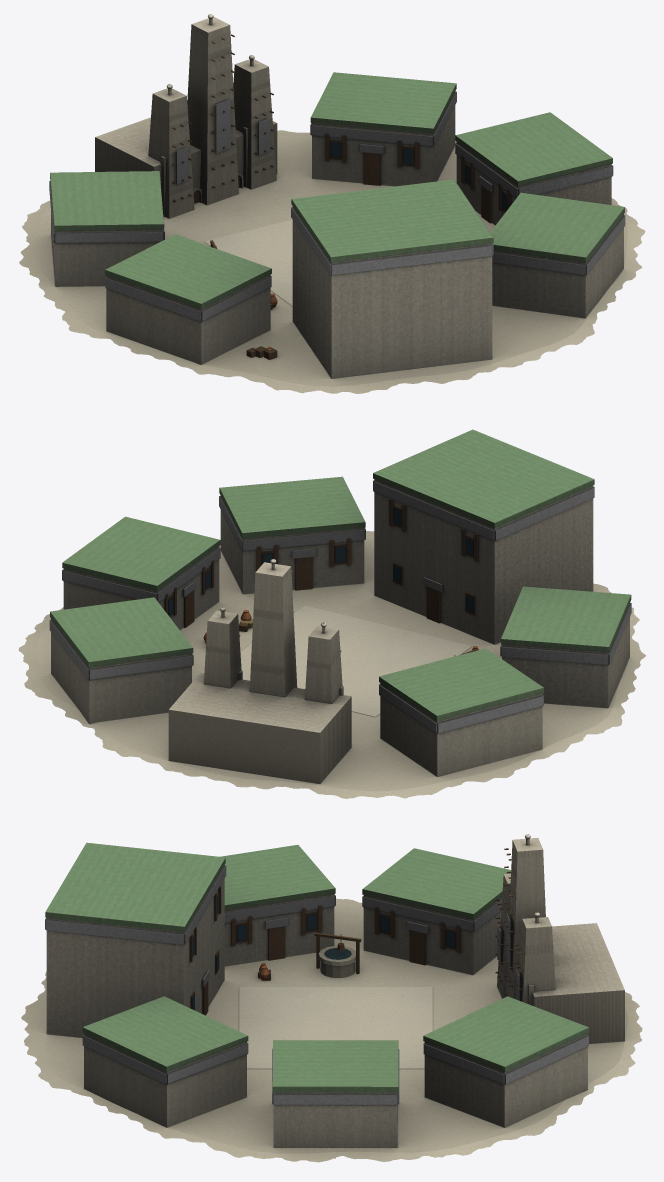
File: gunpowder-town-small-b-maghreb-ea7fd616.glb
3 views of the same model, one above another, from view 1: azimuth 30°, elevation 25°; view 2: azimuth 150°, elevation 25°; view 3: azimuth 270°, elevation 25° (orthographic).
Visible parts, largest first — view 1: LOD0; view 2: LOD0; view 3: LOD0.
Boxes of the visible parts, bbox=[...] form: LOD0: bbox=[19, 14, 645, 393]; LOD0: bbox=[18, 429, 646, 798]; LOD0: bbox=[21, 834, 642, 1162].
Size of what is drawn, in the model's own units: 3.97 by 1.26 by 3.95.
Materials: 3 (3 with a texture image).
